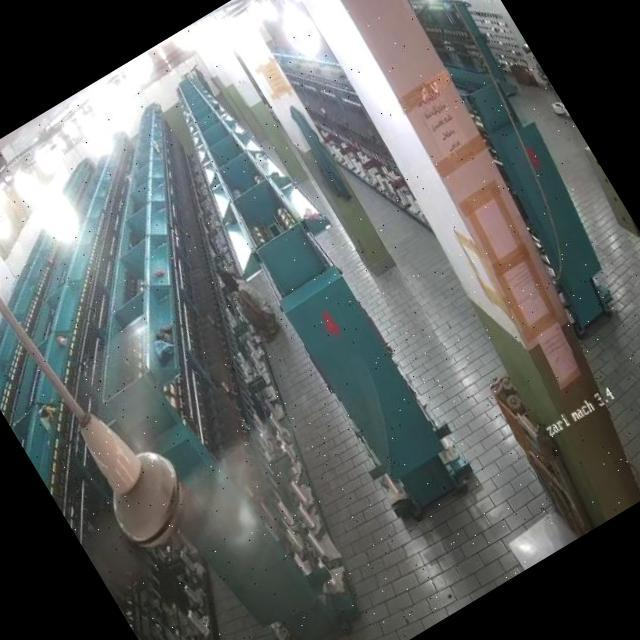person: (218, 257, 290, 348)
